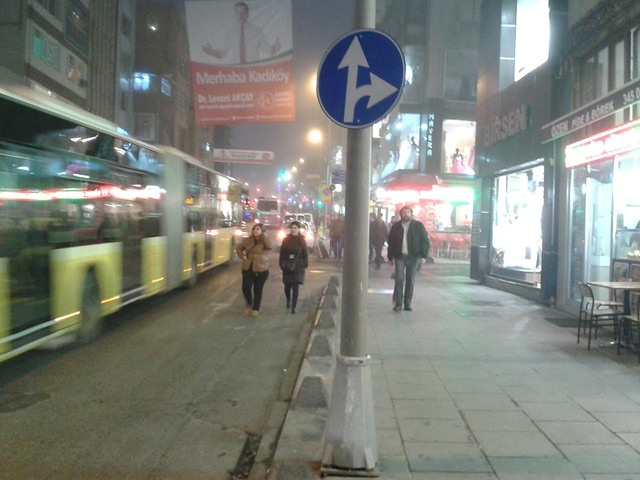ileri_veya_saga: (315, 31, 405, 131)
minibus: (0, 71, 239, 378)
yaya: (395, 194, 425, 320), (237, 214, 266, 319), (279, 216, 307, 310)
